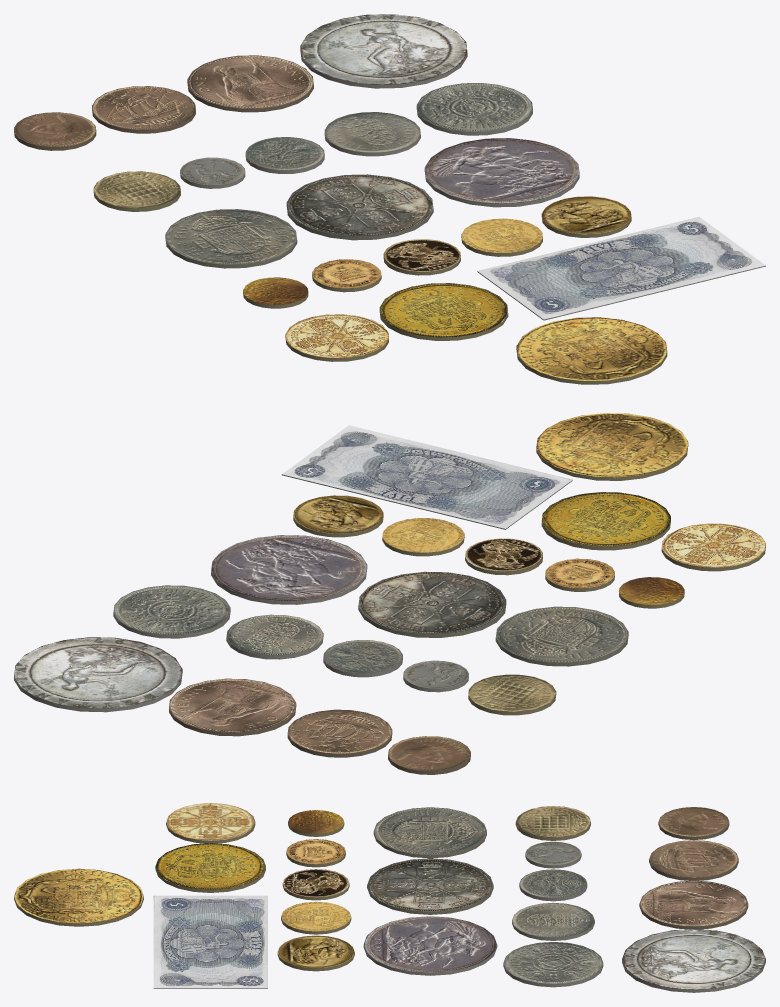
The model's file is Coins.fbx.
The picture shows the model from 3 angles, top to bottom: view 1: azimuth 30°, elevation 25°; view 2: azimuth 150°, elevation 25°; view 3: azimuth 270°, elevation 25°; orthographic projection. The views are drawn at different scales.
Parts seen in each view (by area): view 1: five_pounds, twopence, crown, five_guineas, double_florin, half_crown, two_guineas, penny, florin, halfpenny, guinea, shilling (+9 smaller); view 2: five_pounds, twopence, crown, five_guineas, double_florin, half_crown, two_guineas, penny, florin, halfpenny, guinea, shilling (+9 smaller); view 3: five_pounds, twopence, crown, five_guineas, double_florin, half_crown, two_guineas, penny, florin, halfpenny, guinea, shilling (+9 smaller).
Boxes of the visible parts, box(x1,y1,x2,y2) form: five_pounds: box(477, 217, 765, 320); twopence: box(300, 14, 467, 88); crown: box(424, 138, 579, 207); five_guineas: box(516, 317, 667, 384); double_florin: box(286, 174, 433, 240); half_crown: box(165, 209, 297, 268); two_guineas: box(379, 283, 508, 340); penny: box(187, 55, 313, 112); florin: box(416, 83, 532, 135); halfpenny: box(92, 86, 195, 133); guinea: box(285, 314, 388, 361); shilling: box(324, 112, 420, 156); five_pounds: box(281, 425, 572, 529); twopence: box(14, 637, 182, 712); crown: box(211, 535, 367, 604); five_guineas: box(536, 413, 688, 480); double_florin: box(358, 571, 506, 637); half_crown: box(495, 606, 628, 666); two_guineas: box(541, 492, 670, 550); penny: box(169, 678, 296, 736); florin: box(113, 585, 230, 638); halfpenny: box(287, 709, 392, 757); guinea: box(661, 523, 765, 571); shilling: box(226, 614, 323, 659); five_pounds: box(153, 895, 267, 988); twopence: box(622, 929, 765, 992); crown: box(363, 916, 497, 975); five_guineas: box(14, 868, 143, 926); double_florin: box(367, 858, 493, 914); half_crown: box(373, 807, 486, 858); two_guineas: box(155, 843, 265, 892); penny: box(639, 880, 748, 929); florin: box(503, 942, 603, 987); halfpenny: box(649, 840, 738, 880); guinea: box(166, 803, 255, 843); shilling: box(512, 902, 594, 940).
Size of the model in its own units: 25.14 by 0.2 by 42.8.
